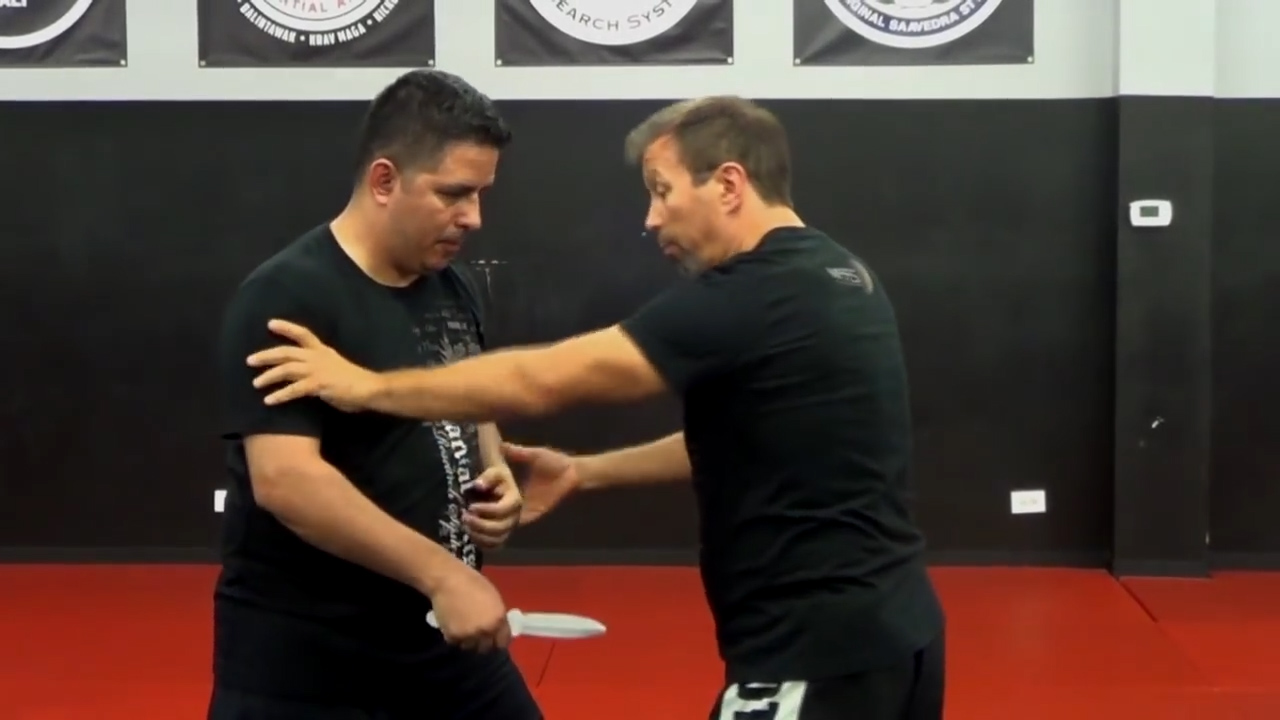knife: (418, 597, 622, 652)
